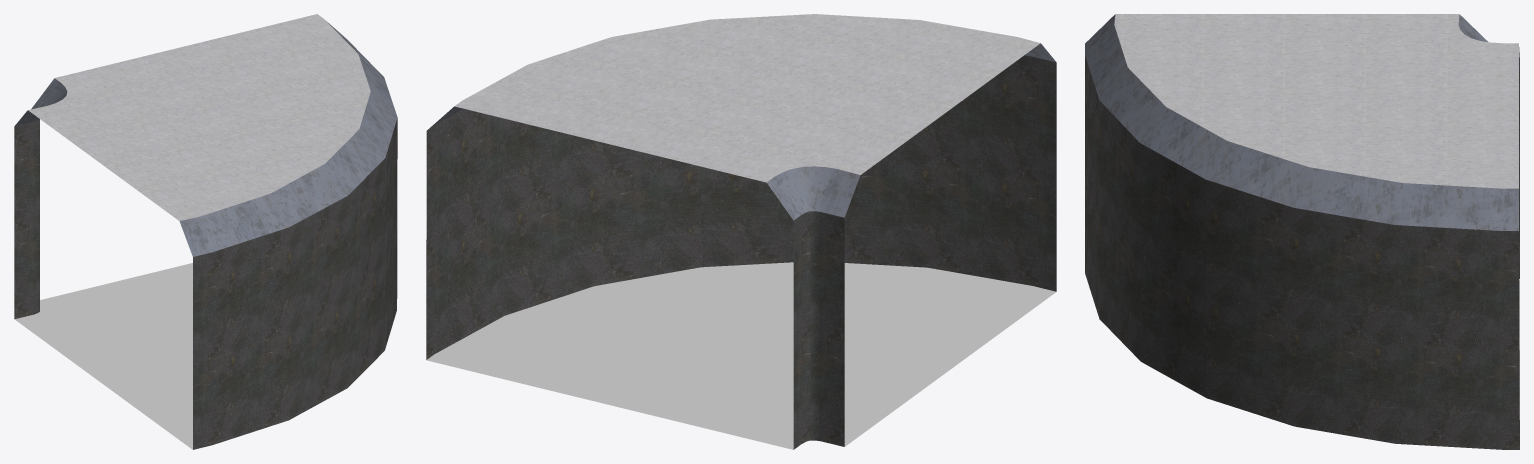
The model's file is starship_left_corner.FBX.
3 views of the same model, side by side, from view 1: azimuth 30°, elevation 25°; view 2: azimuth 150°, elevation 25°; view 3: azimuth 270°, elevation 25° (orthographic). The views are drawn at different scales.
Parts seen in each view (by area): view 1: LeftCorner; view 2: LeftCorner; view 3: LeftCorner.
Boxes of the visible parts, bbox=[...] form: LeftCorner: bbox=[14, 14, 397, 449]; LeftCorner: bbox=[426, 14, 1056, 449]; LeftCorner: bbox=[1085, 14, 1519, 449].
Size of the model in its own units: 2.67 by 1.65 by 2.61.
